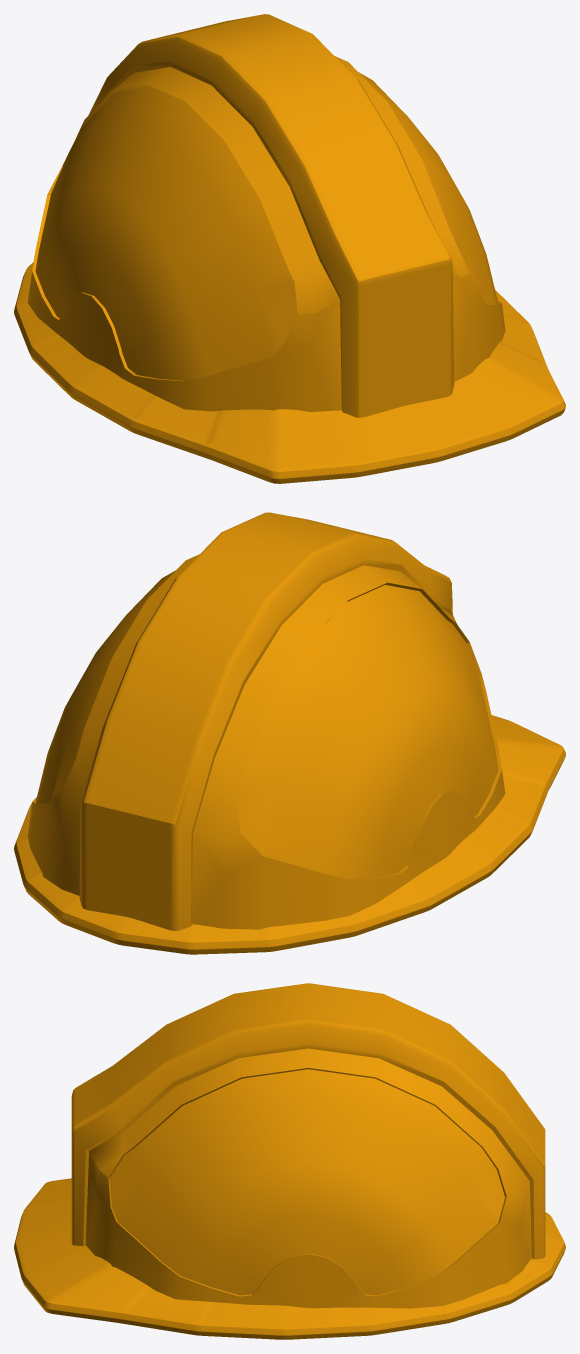
File: ConstructionHat.fbx
3 views of the same model, one above another, from view 1: azimuth 30°, elevation 25°; view 2: azimuth 150°, elevation 25°; view 3: azimuth 270°, elevation 25° (orthographic). The views are drawn at different scales.
Parts seen in each view (by area): view 1: ConstructionHat; view 2: ConstructionHat; view 3: ConstructionHat.
Part boxes in pixels (x1,y1,x2,y2): ConstructionHat: [14, 14, 565, 483]; ConstructionHat: [14, 512, 565, 954]; ConstructionHat: [14, 983, 565, 1339].
Size of the model in its own units: 2.53 by 1.7 by 3.34.
